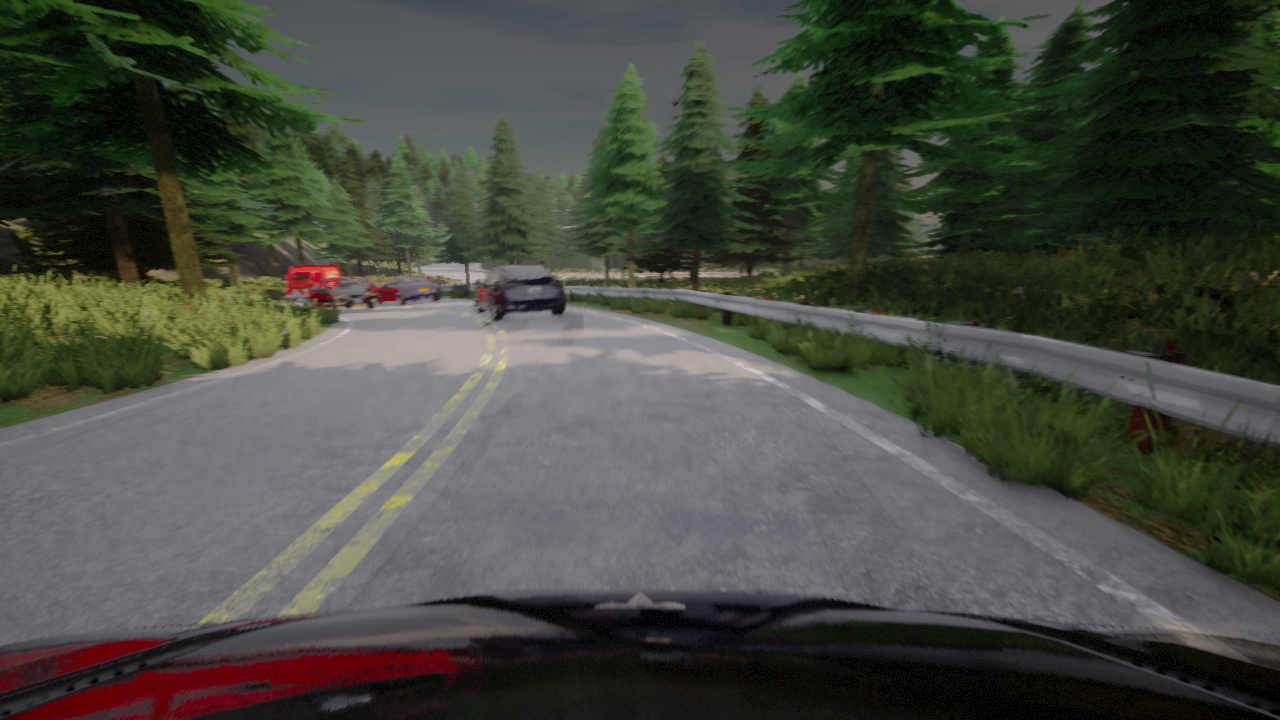cyclist: (0, 588, 1279, 719), (474, 265, 564, 320), (307, 278, 376, 310), (280, 266, 339, 301), (374, 275, 440, 305), (350, 278, 377, 292), (422, 277, 449, 285)
